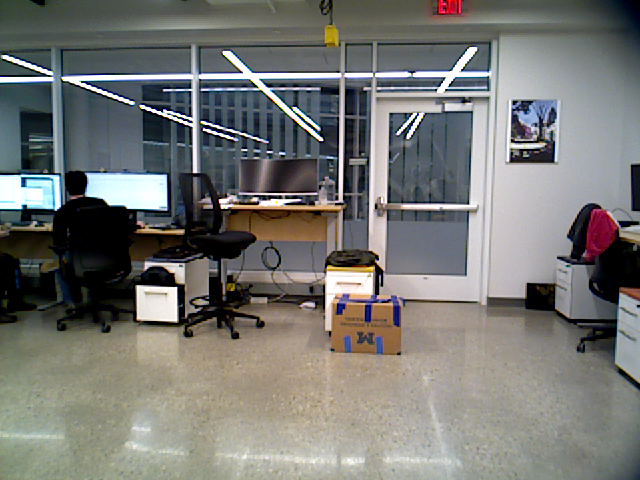painting3: (508, 101, 559, 162)
